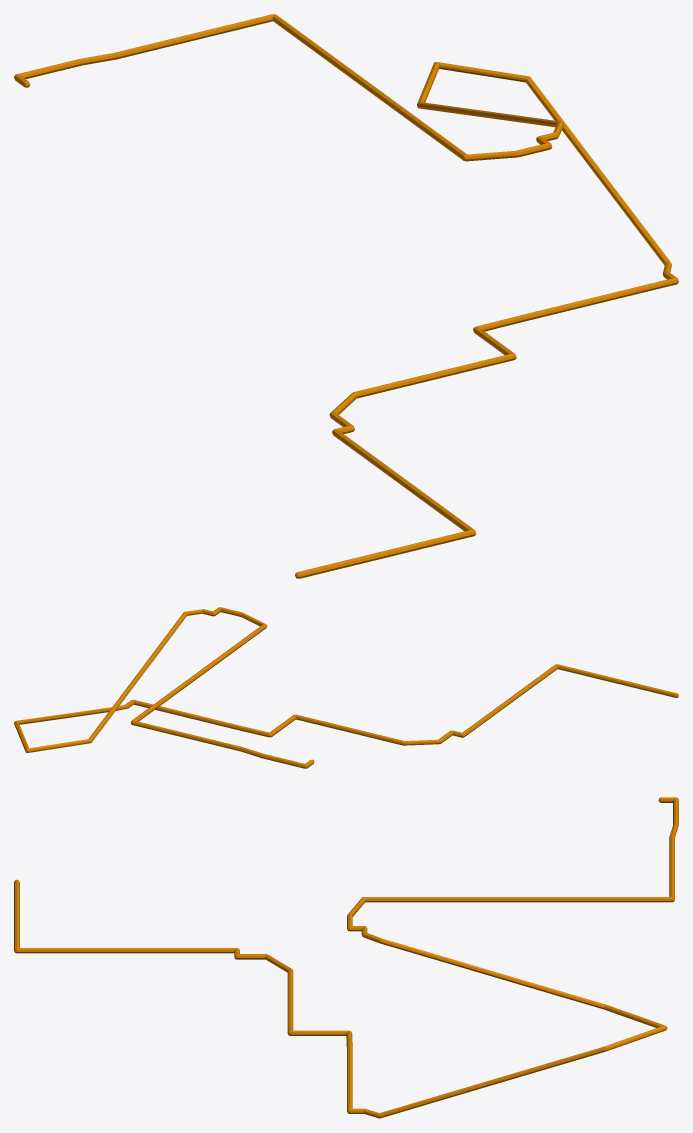
3 renders of one model, top to bottom at view 1: azimuth 30°, elevation 25°; view 2: azimuth 150°, elevation 25°; view 3: azimuth 270°, elevation 25°, orthographic. The views are drawn at different scales.
Bounding box in the file's own units: 1901 × 520 × 2265.
